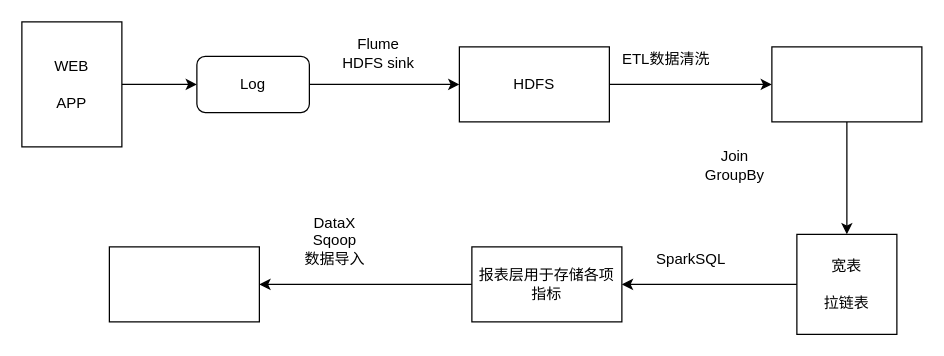
The diagram is 944 pixels wide and 356 high, and some of its shapes have lost their labels. Here are the shapes that lost their labels. From the top down, the centre of each, then its label:
At (846,84): "HDFS/HIVE".
At (183,284): "MySQL TiDB HBase".
